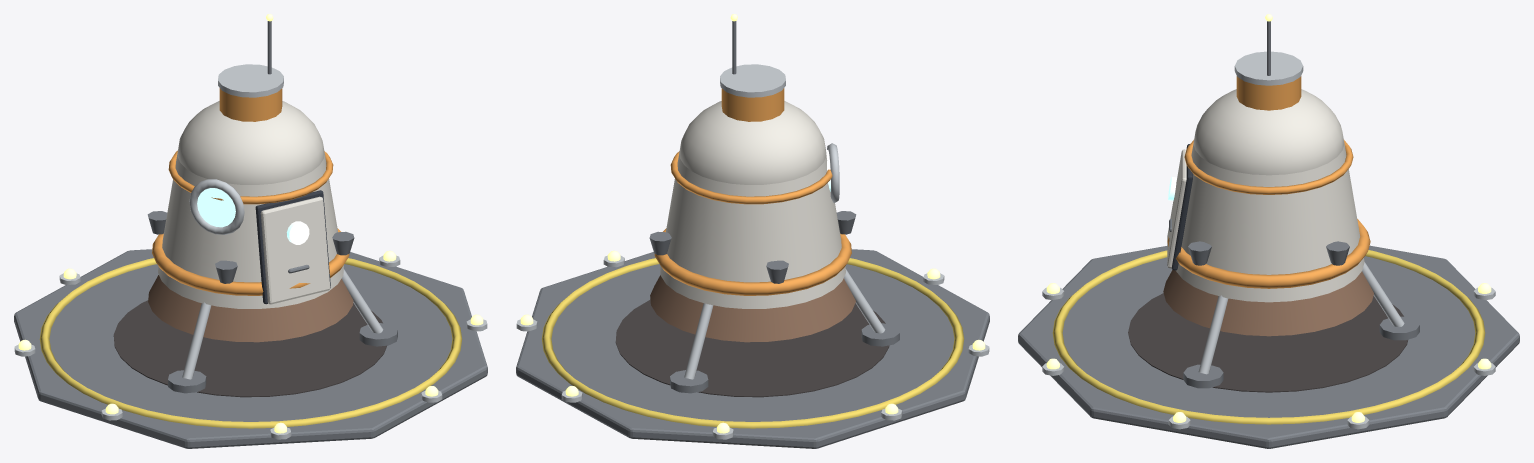
The model's file is landing_pod.glb.
The picture shows the model from 3 angles, left to right: view 1: azimuth 30°, elevation 25°; view 2: azimuth 150°, elevation 25°; view 3: azimuth 270°, elevation 25°; orthographic projection. The views are drawn at different scales.
Visible parts, largest first — view 1: Pad, Capsule, Hatch; view 2: Pad, Capsule; view 3: Pad, Capsule, Hatch.
Boxes of the visible parts, box(x1,y1,x2,y2) form: Pad: box(14, 249, 487, 448); Capsule: box(147, 14, 397, 393); Hatch: box(260, 196, 330, 304); Pad: box(516, 249, 989, 448); Capsule: box(649, 14, 899, 393); Pad: box(1018, 245, 1519, 448); Capsule: box(1163, 14, 1419, 388); Hatch: box(1167, 149, 1186, 268).
Size of the model in its own units: 4.99 by 3.72 by 4.99.
